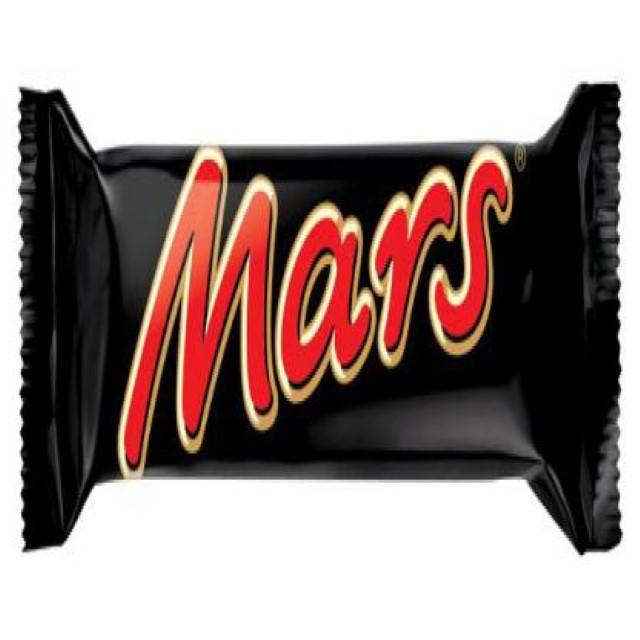mars_chocolate: (37, 103, 635, 532)
